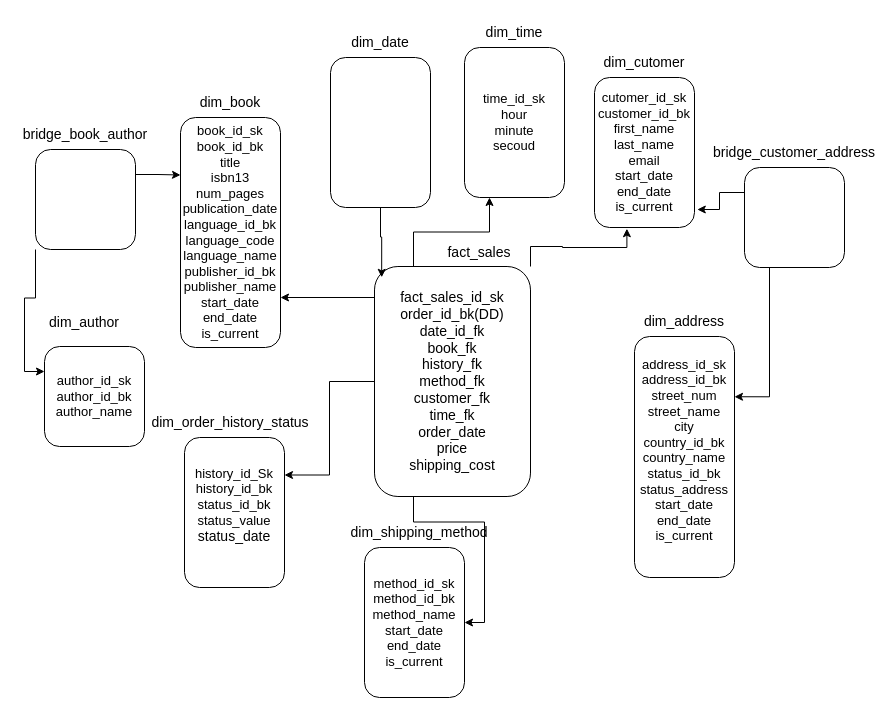
Image size: 893x715. Some labels were removed from this diagram. The box of each missing label's shape, as (x1, y1, x2, y2) in pixels:
book_id_fk author_id_fk: (34, 148, 136, 250)
customer_id_fk address_id_fk: (744, 166, 844, 268)
date_id_sk full_date day month quarter year: (330, 56, 430, 208)
